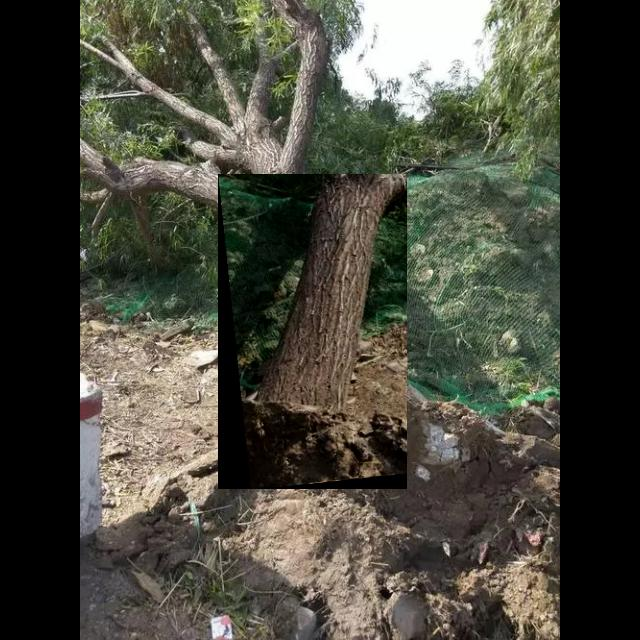Fallen Tree: (218, 174, 408, 490)
